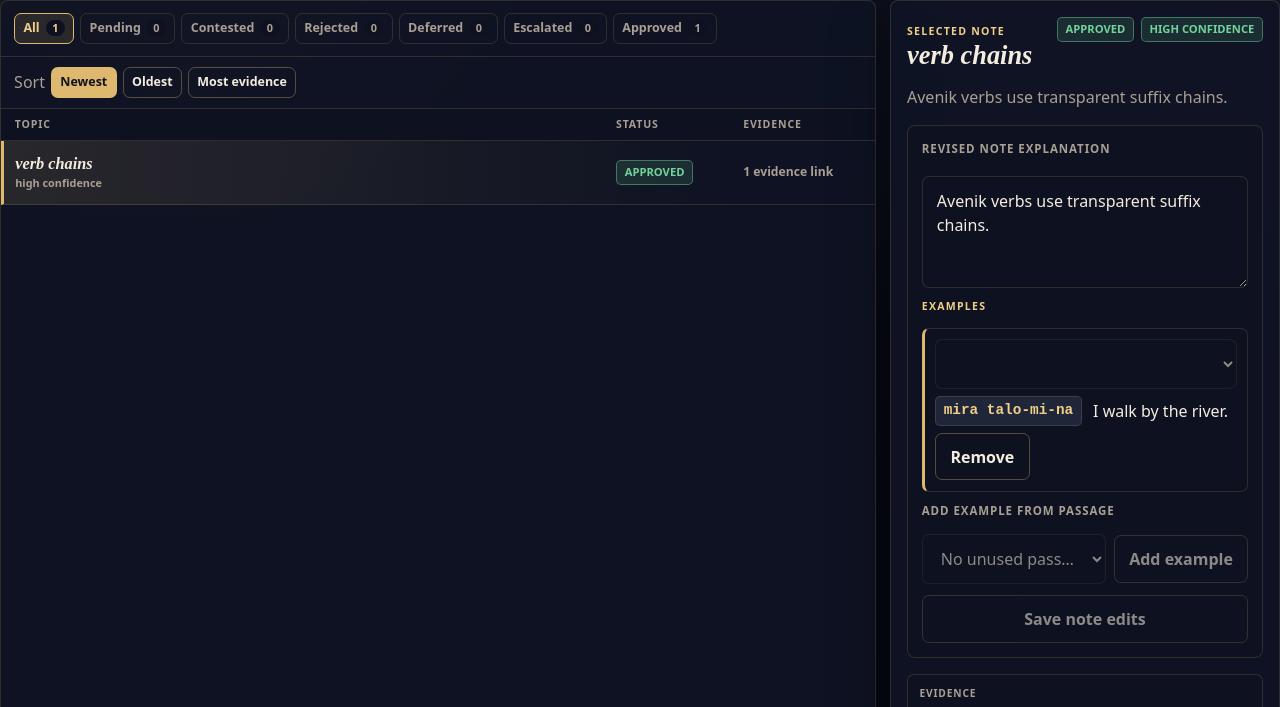
it: ReviewView › shows filter-specific next-step guidance when no notes match the active filter
Click the button "Rejected 0" at x=344, y=28, box [295,12,393,44]
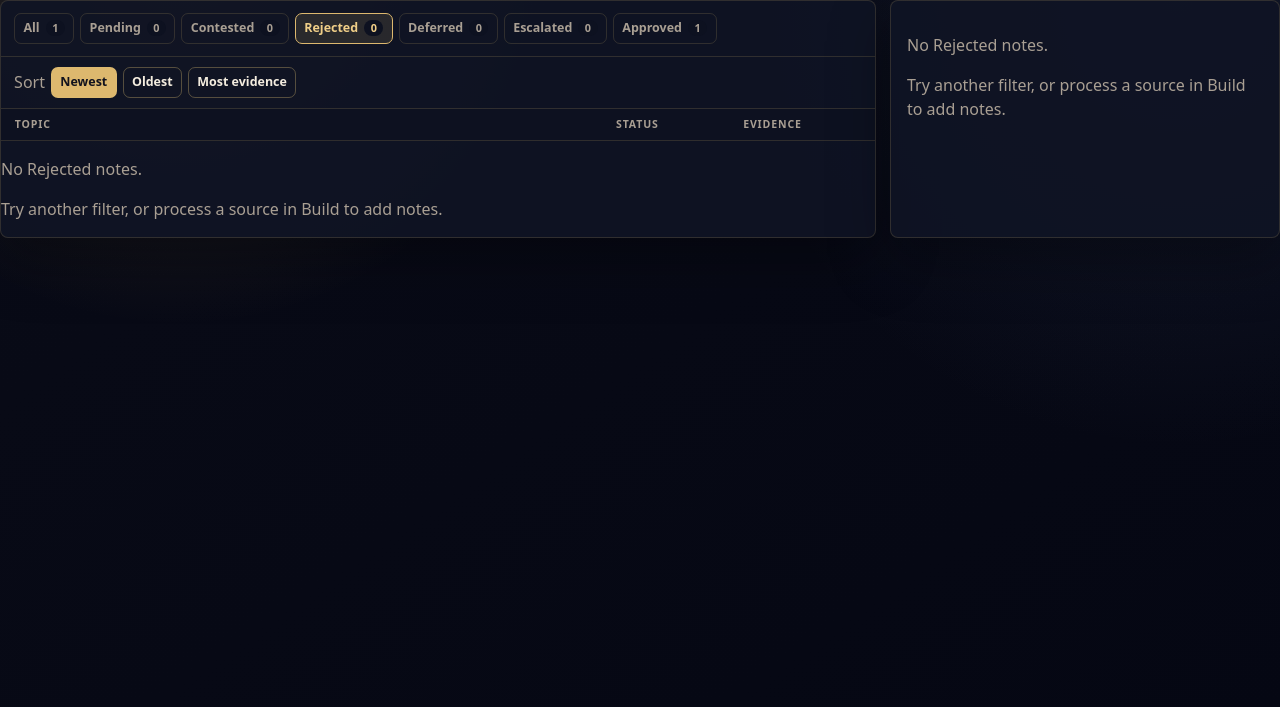
Now the message with class "empty-state" below "Topic" shows "No Rejected notes.", box [1,158,142,180]
Now the message with class "empty-state" below "Topic" shows "Try another filter, or process a source in Build to add notes.", box [1,198,442,220]
Now the button with class "note-row" is gone
